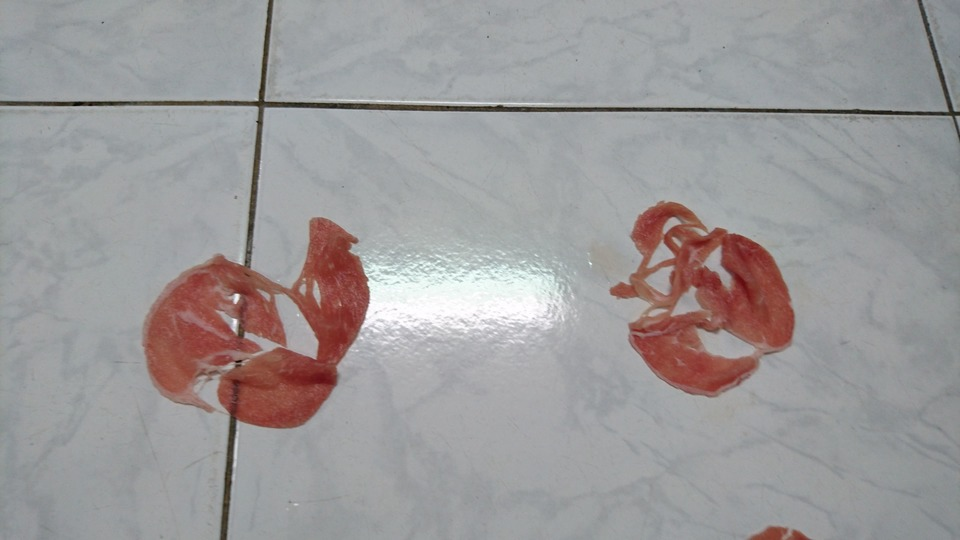restructured meat: (137, 213, 378, 432), (610, 196, 789, 398)
